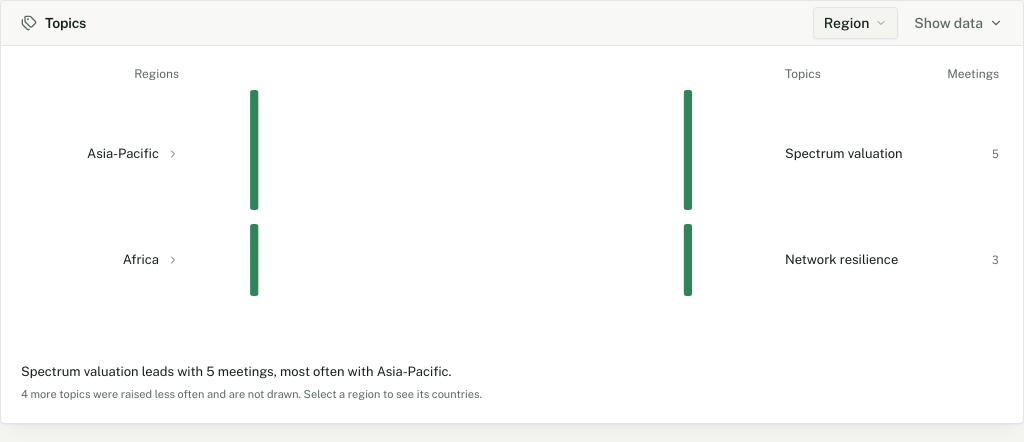
Test: TopicsFigure › gets the same view from pressing the region in the chart, and says so on the menu button
Click the button "Africa": (108, 260) [21,217,195,303]
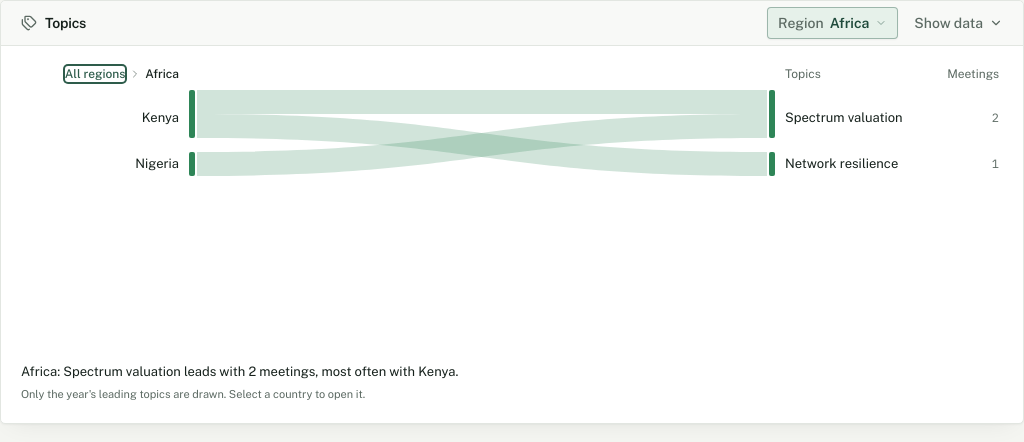
Check: the button "Region Africa" is shown, box [767,7,898,39]
